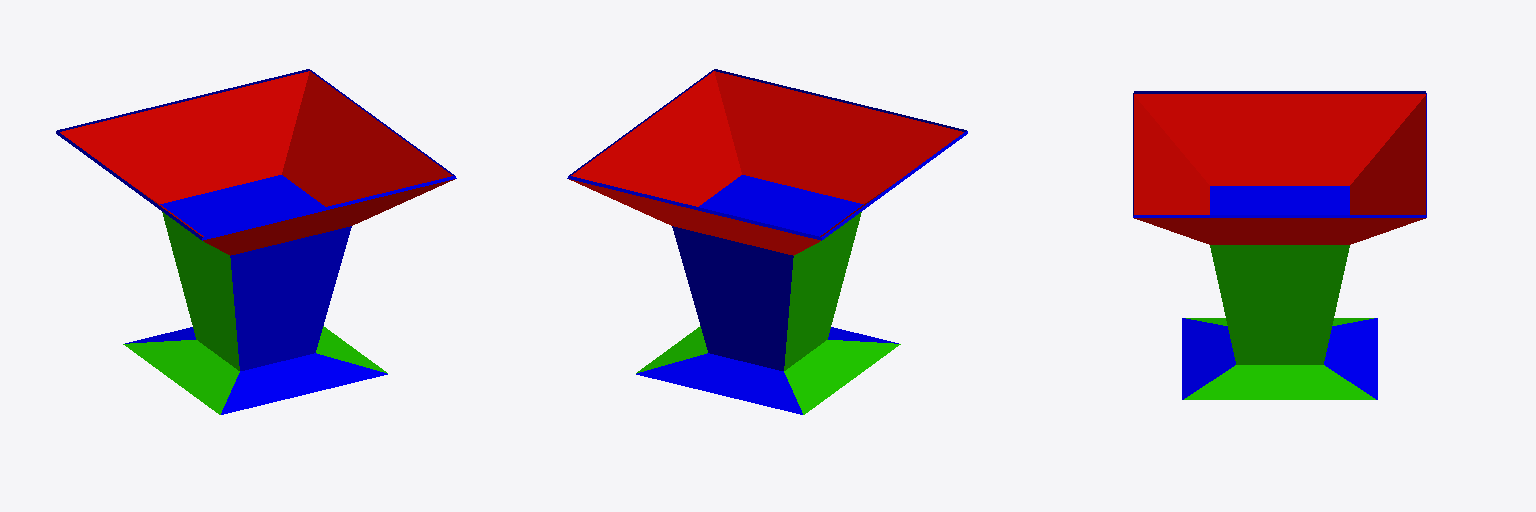
File: cute_holder_3col.obj
3 renders of one model, left to right at view 1: azimuth 30°, elevation 25°; view 2: azimuth 150°, elevation 25°; view 3: azimuth 270°, elevation 25°, orthographic.
Visible parts, largest first — view 1: Cube; view 2: Cube; view 3: Cube.
Part boxes in pixels (x1,y1,x2,y2): Cube: (56, 69, 456, 414); Cube: (567, 69, 967, 414); Cube: (1133, 91, 1426, 399).
Size of the model in its own units: 4.19 by 3.24 by 4.19.